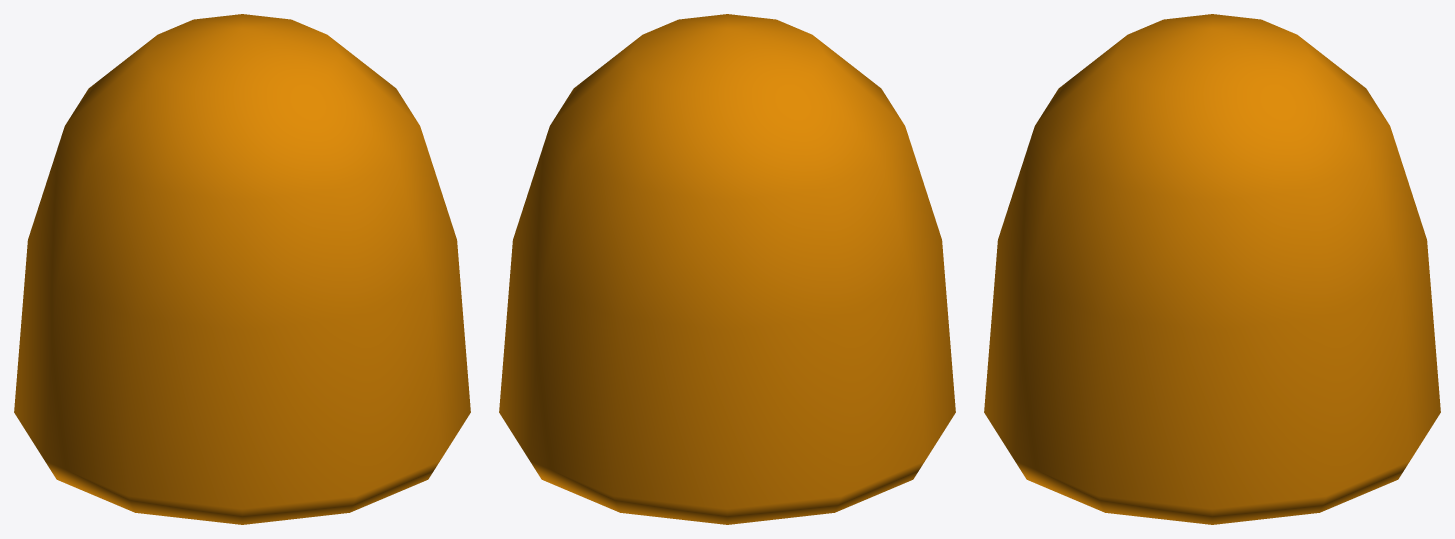
Rendered from gumdrop.fbx.
3 views of the same model, side by side, from view 1: azimuth 30°, elevation 25°; view 2: azimuth 150°, elevation 25°; view 3: azimuth 270°, elevation 25° (orthographic).
Parts seen in each view (by area): view 1: gumdrop; view 2: gumdrop; view 3: gumdrop.
Part boxes in pixels (box(x1,y1,x2,y2)): gumdrop: box(14, 14, 470, 524); gumdrop: box(499, 14, 955, 524); gumdrop: box(984, 14, 1440, 524).
Size of the model in its own units: 0.6312 by 0.6185 by 0.6312.
